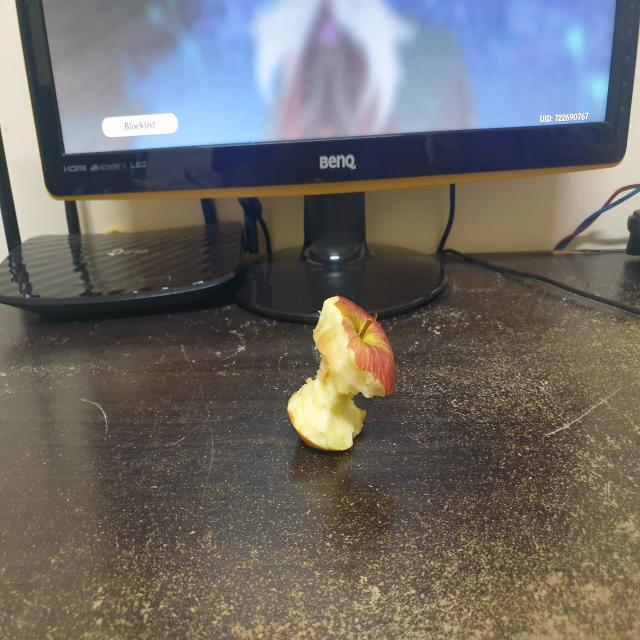apple: (280, 288, 408, 458)
